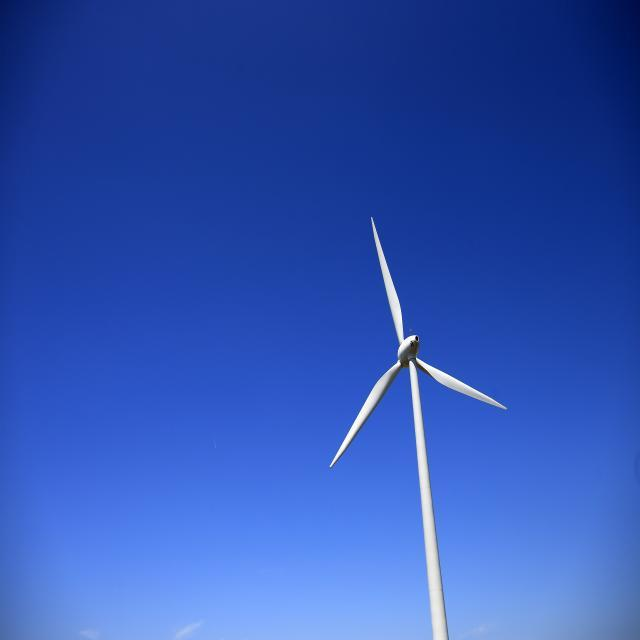solid-blade: (330, 361, 401, 467), (415, 359, 506, 409), (372, 218, 401, 343)
